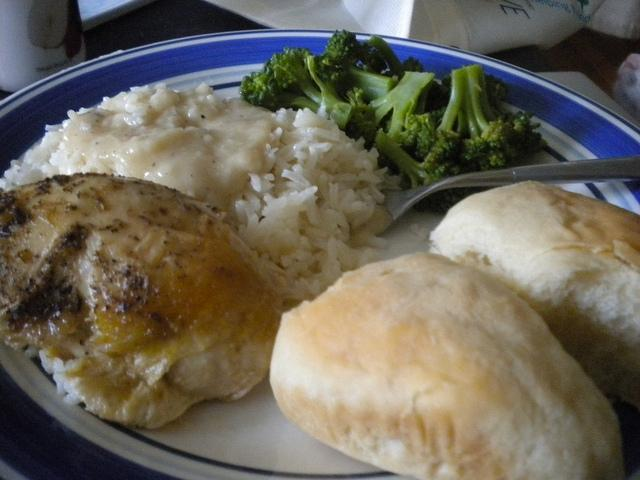broccoli: (424, 63, 547, 172), (240, 46, 366, 130), (371, 127, 470, 191), (324, 29, 398, 101), (370, 70, 436, 148), (365, 34, 423, 80)
